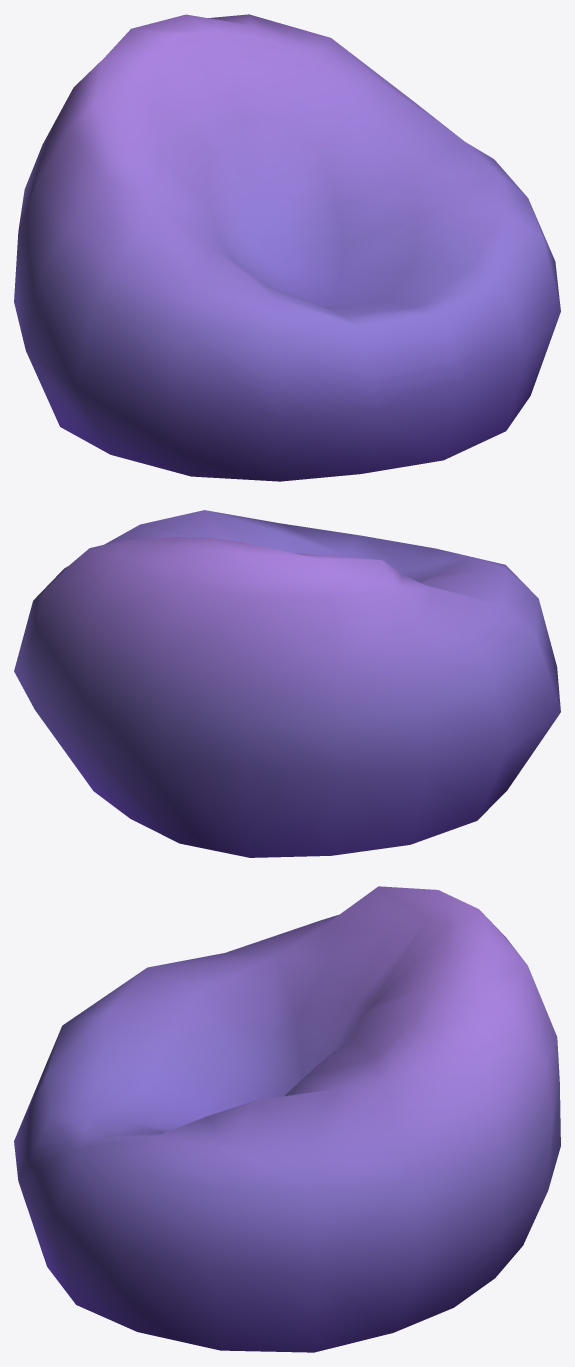
The model's file is Puff.FBX.
3 views of the same model, one above another, from view 1: azimuth 30°, elevation 25°; view 2: azimuth 150°, elevation 25°; view 3: azimuth 270°, elevation 25° (orthographic). The views are drawn at different scales.
Parts seen in each view (by area): view 1: Puff; view 2: Puff; view 3: Puff.
Boxes of the visible parts, x1,y1,x2,y2 form: Puff: (14, 14, 560, 481); Puff: (14, 510, 560, 857); Puff: (14, 886, 560, 1352).
Bounding box in the file's own units: 40.18 × 23.62 × 38.1.
